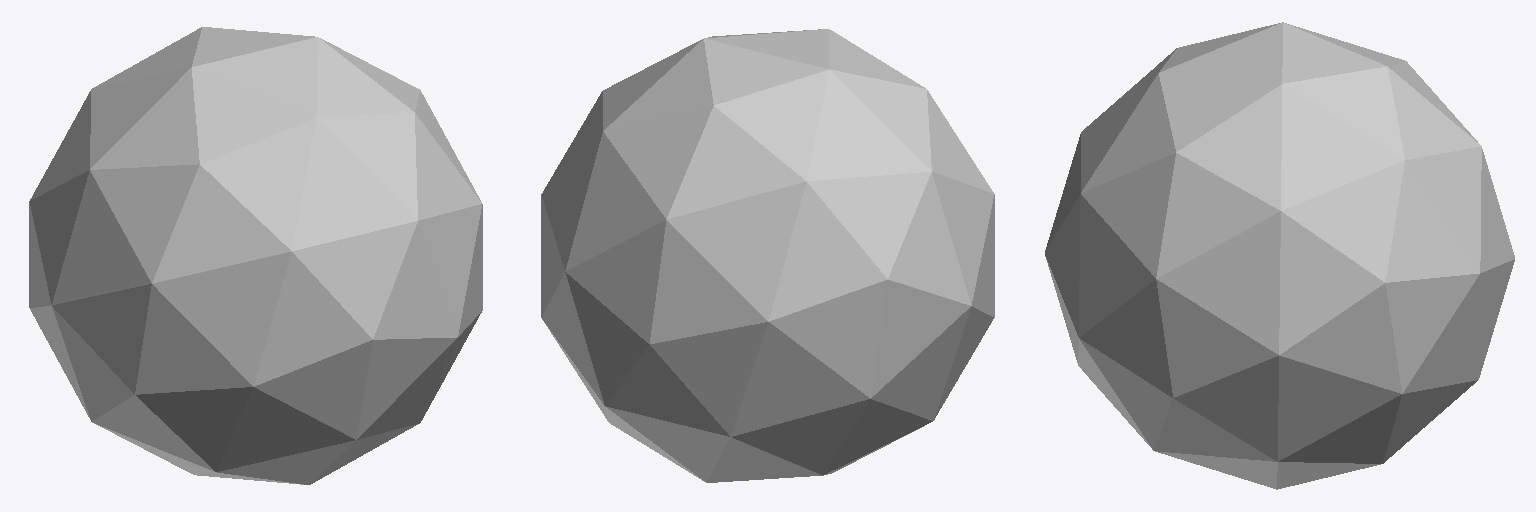
Rendered from bullet.obj.
3 renders of one model, left to right at view 1: azimuth 30°, elevation 25°; view 2: azimuth 150°, elevation 25°; view 3: azimuth 270°, elevation 25°, orthographic.
Visible parts, largest first — view 1: bullet; view 2: bullet; view 3: bullet.
Boxes of the visible parts, x1,y1,x2,y2 form: bullet: [29, 27, 482, 484]; bullet: [541, 29, 994, 482]; bullet: [1045, 22, 1514, 489].
Size of the model in its own units: 2 by 1.9 by 2.